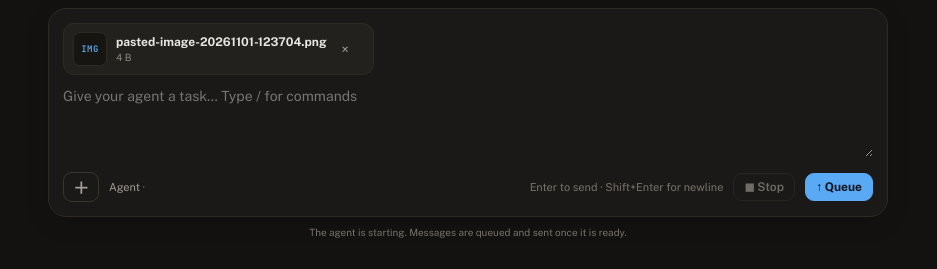
Test case: composer attachments on the terminal transport › a message queued while the session starts keeps its files and hands them over once ready
Type "queued with an image" into the text box with placeholder "Give your agent a task… Type / for commands". click: (468, 121)
box: [63,85,873,157]
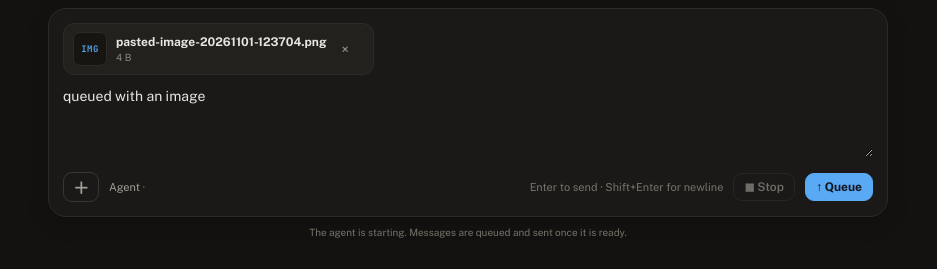
Submit the form
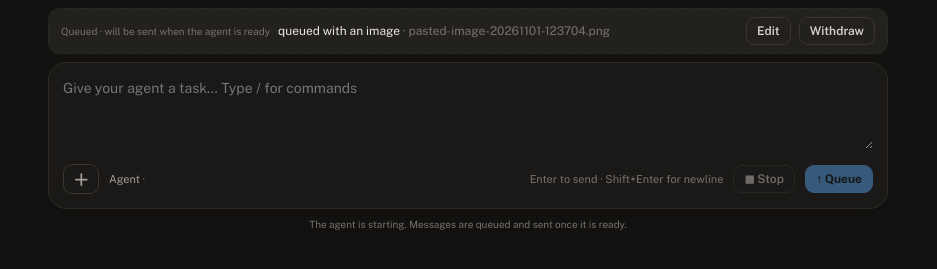
Check: the list item shows "pasted-image-", box [400,24,610,38]
